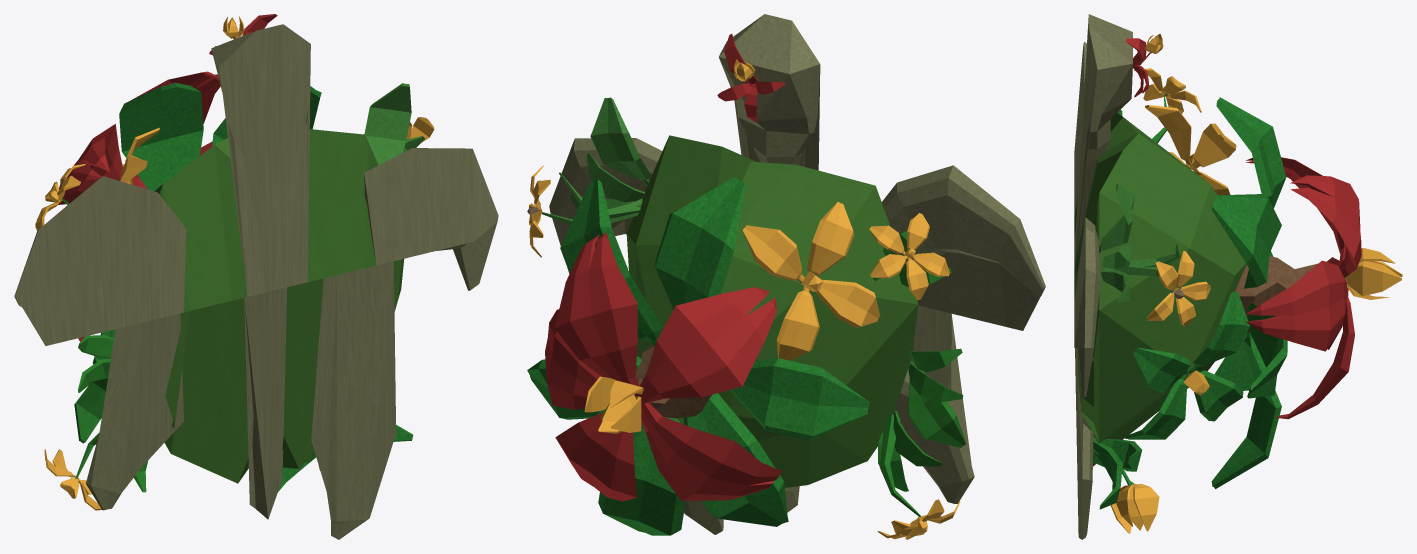
The model's file is green_symbol_tuttle.FBX.
3 renders of one model, left to right at view 1: azimuth 30°, elevation 25°; view 2: azimuth 150°, elevation 25°; view 3: azimuth 270°, elevation 25°, orthographic. The views are drawn at different scales.
Visible parts, largest first — view 1: tuttle; view 2: tuttle; view 3: tuttle.
Boxes of the visible parts, x1,y1,x2,y2 form: tuttle: (14,14,498,539); tuttle: (527,14,1045,539); tuttle: (1074,14,1402,539).
Size of the model in its own units: 663 by 687 by 418.
